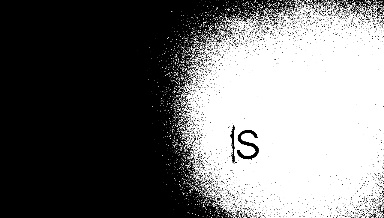S: (234, 125, 262, 163)
